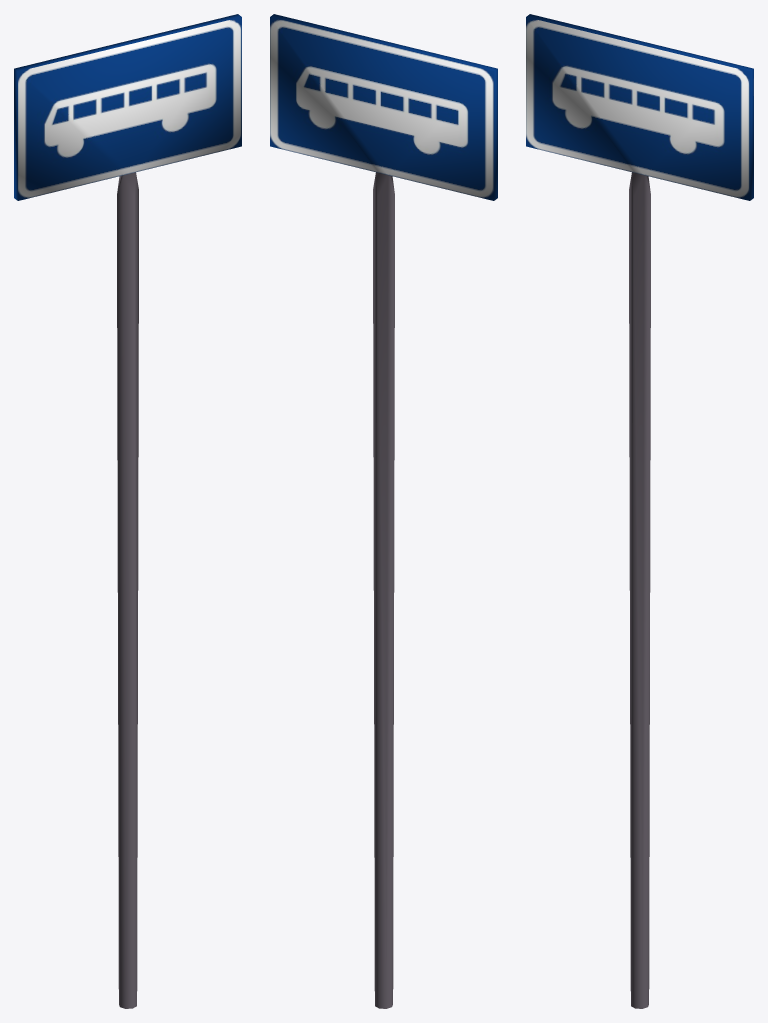
File: BussStopp_EXP.fbx
3 renders of one model, left to right at view 1: azimuth 30°, elevation 25°; view 2: azimuth 150°, elevation 25°; view 3: azimuth 330°, elevation 25°, orthographic.
Visible parts, largest first — view 1: pCylinder1; view 2: pCylinder1; view 3: pCylinder1.
Boxes of the visible parts, box(x1,y1,x2,y2) form: pCylinder1: box(14, 14, 241, 1008); pCylinder1: box(270, 14, 497, 1008); pCylinder1: box(526, 14, 753, 1008).
Size of the model in its own units: 1.05 by 4.32 by 0.1042.
Materials: 1 (1 with a texture image).
